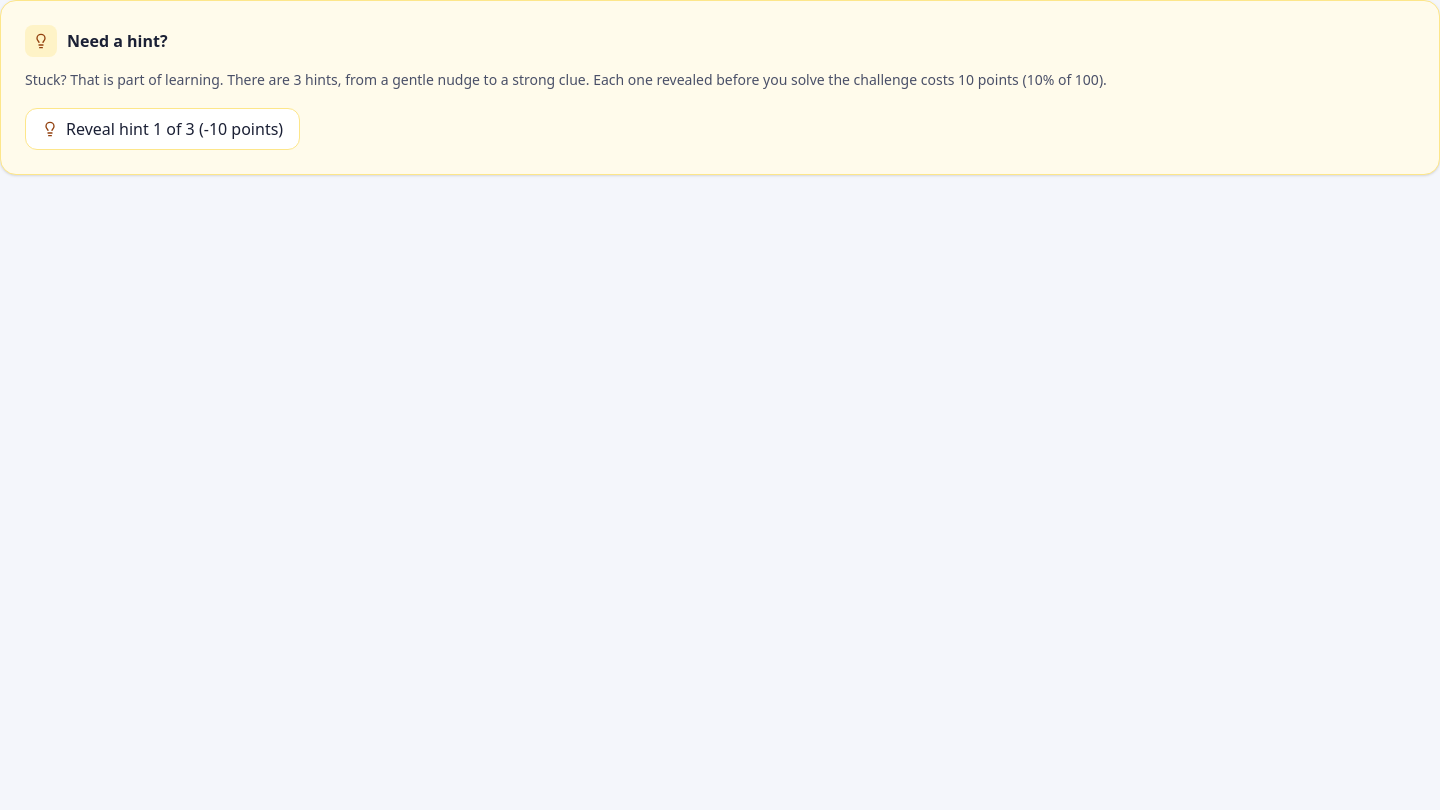
Test case: HintsPanel › can be cancelled
What coordinates should you click on to do the following:
click the button "Reveal hint 1 of 3 (-10 points)"
I would click on:
 (163, 129)
Its box is top-left (25, 108), bottom-right (300, 150).
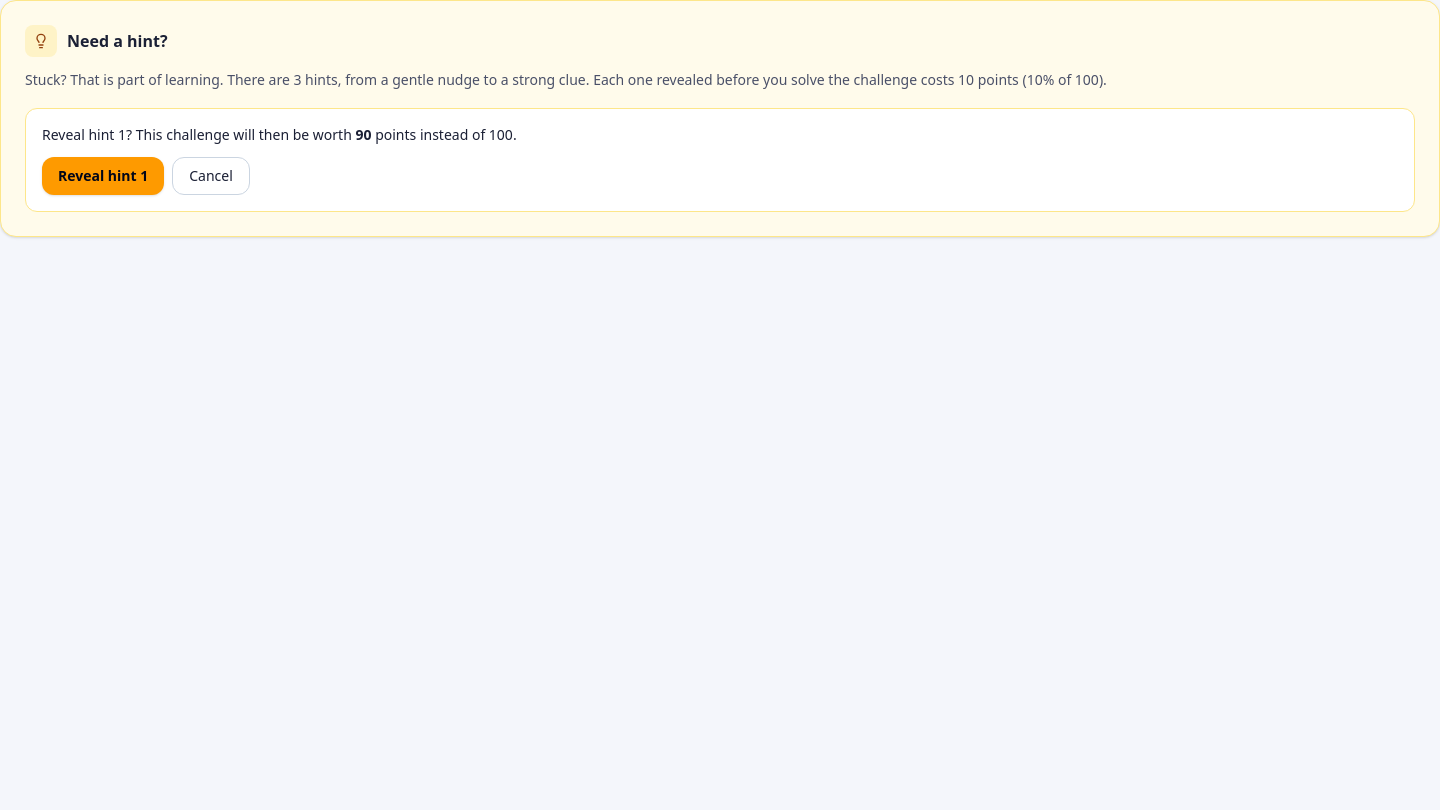
What coordinates should you click on to do the following:
click the button "Cancel"
I would click on:
 (211, 176)
Its box is top-left (172, 157), bottom-right (250, 195).
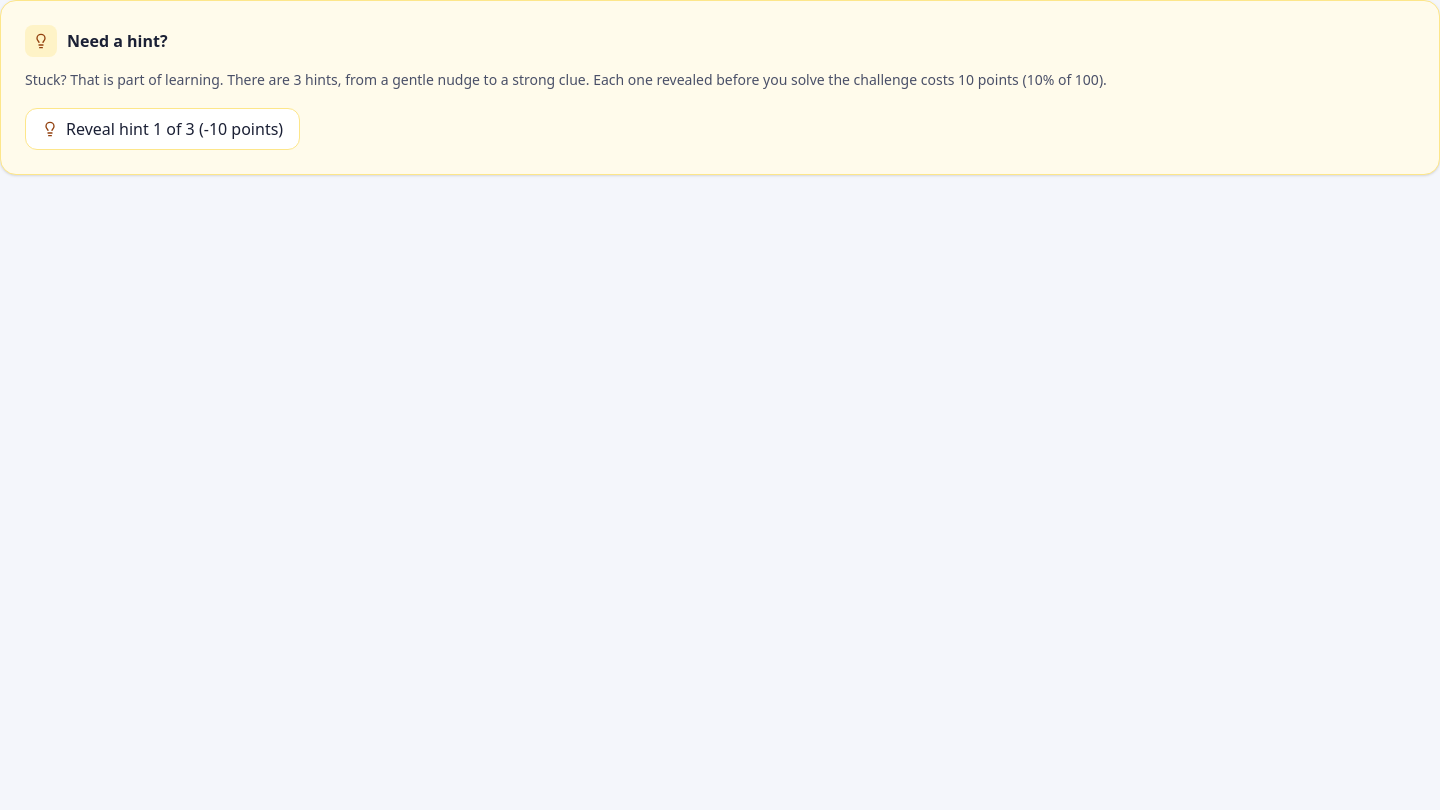
Expected: the dialog is gone
